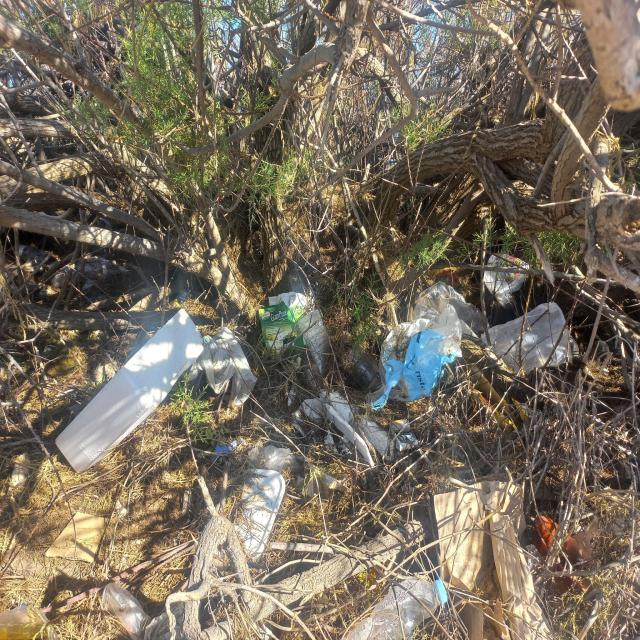Bottle: (344, 579, 450, 640), (340, 331, 382, 393), (297, 307, 333, 375), (17, 244, 48, 266)
Carton: (391, 418, 419, 451)
Other litter: (532, 513, 599, 593), (470, 385, 520, 431), (425, 267, 474, 298), (510, 398, 531, 423)
Other plastic: (480, 300, 574, 375), (183, 326, 258, 410), (247, 441, 348, 498), (484, 252, 533, 308), (53, 256, 130, 289), (214, 442, 231, 459), (229, 437, 245, 450), (88, 295, 111, 303)
Paper: (432, 480, 558, 640), (257, 290, 310, 356)
Plastic bag - wrapper: (366, 284, 490, 408)
Styrofoam piece: (55, 306, 205, 475), (291, 387, 398, 466), (233, 468, 286, 563)
